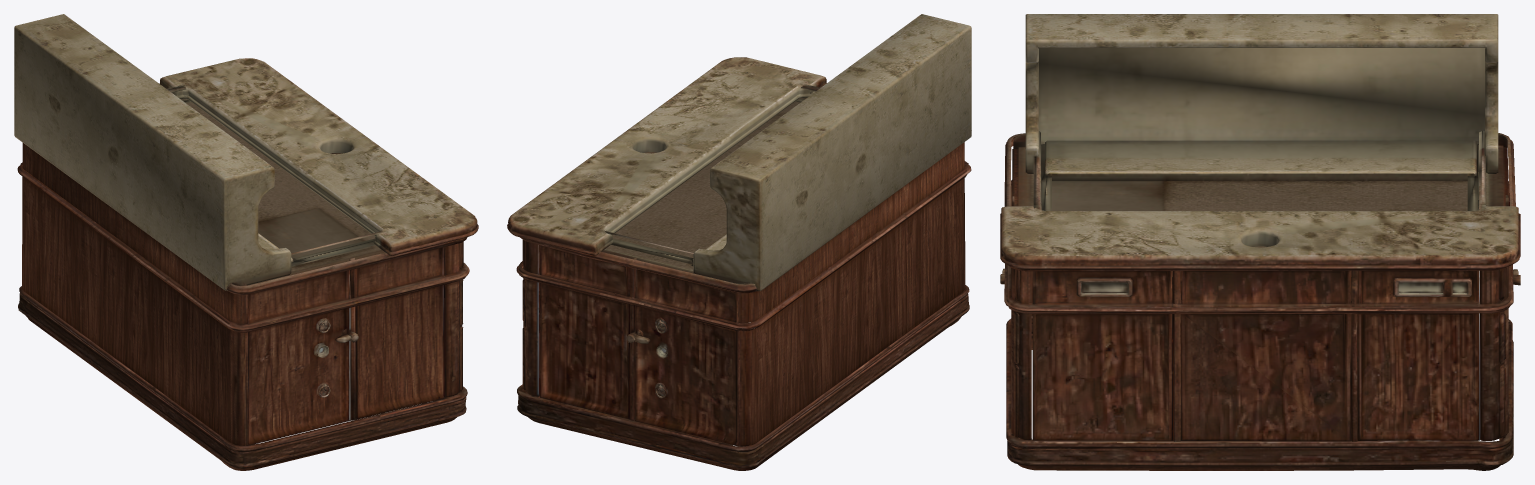
3 renders of one model, left to right at view 1: azimuth 30°, elevation 25°; view 2: azimuth 150°, elevation 25°; view 3: azimuth 270°, elevation 25°, orthographic. The views are drawn at different scales.
Parts seen in each view (by area): view 1: tripo_node_ce150321-cb5a-4dd2-960e-ec2de6a6111d; view 2: tripo_node_ce150321-cb5a-4dd2-960e-ec2de6a6111d; view 3: tripo_node_ce150321-cb5a-4dd2-960e-ec2de6a6111d.
Part boxes in pixels (left/top/right/bottom): tripo_node_ce150321-cb5a-4dd2-960e-ec2de6a6111d: left=14, top=14, right=478, bottom=470; tripo_node_ce150321-cb5a-4dd2-960e-ec2de6a6111d: left=507, top=14, right=971, bottom=470; tripo_node_ce150321-cb5a-4dd2-960e-ec2de6a6111d: left=1000, top=14, right=1520, bottom=470.
Bounding box in the file's own units: 0.627 × 0.6973 × 0.998.
1 material, 1 textured.
